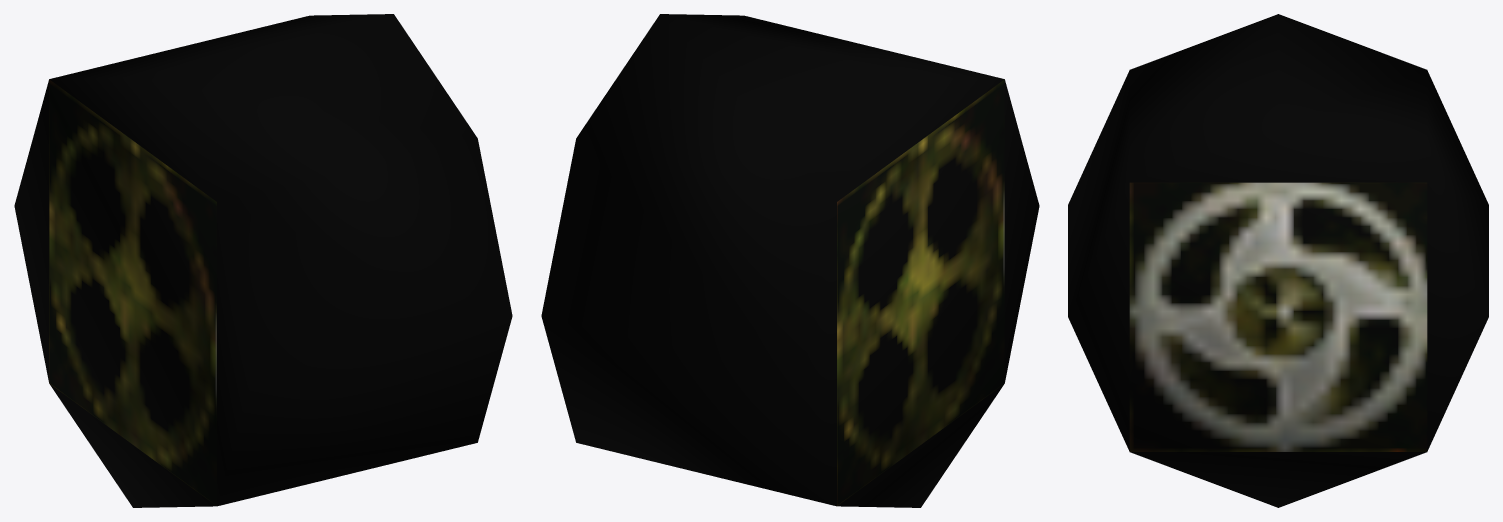
Rendered from WheelFrontL.obj.
3 views of the same model, side by side, from view 1: azimuth 30°, elevation 25°; view 2: azimuth 150°, elevation 25°; view 3: azimuth 270°, elevation 25° (orthographic). The views are drawn at different scales.
Parts seen in each view (by area): view 1: WheelFrontL; view 2: WheelFrontL; view 3: WheelFrontL.
Boxes of the visible parts, x1,y1,x2,y2 form: WheelFrontL: (14, 14, 512, 507); WheelFrontL: (541, 14, 1039, 507); WheelFrontL: (1068, 14, 1488, 507).
Bounding box in the file's own units: 0.7632 × 1.2 × 1.2.
2 materials, 1 textured.
